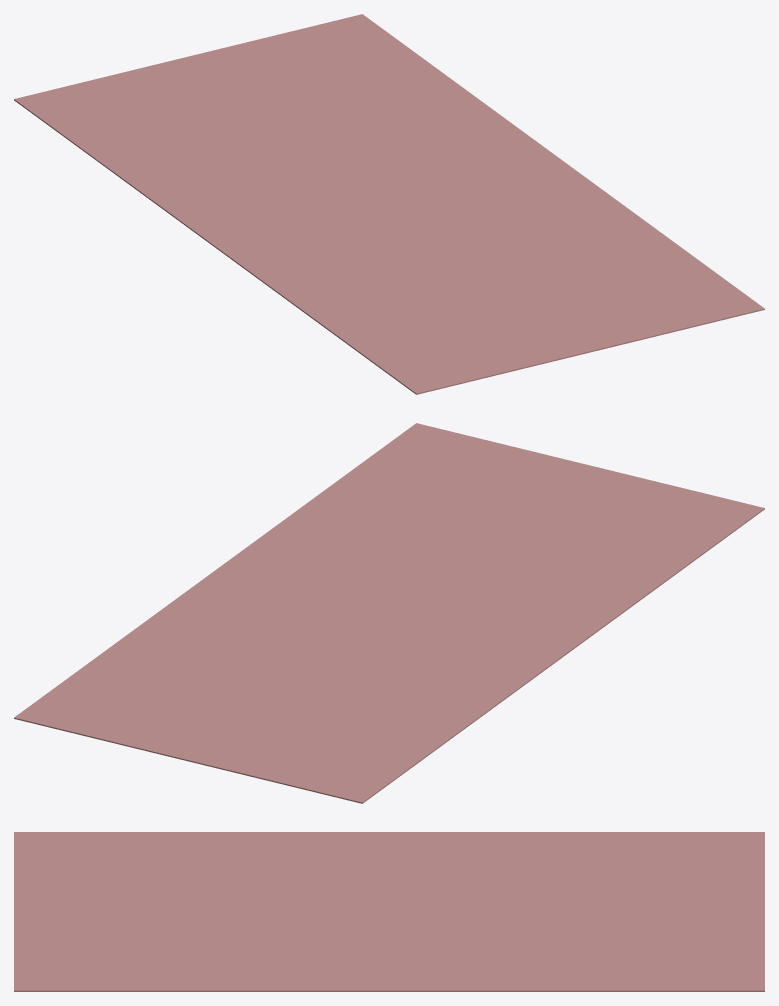
The model's file is testCloth_LP.fbx.
3 views of the same model, one above another, from view 1: azimuth 30°, elevation 25°; view 2: azimuth 150°, elevation 25°; view 3: azimuth 270°, elevation 25° (orthographic). The views are drawn at different scales.
Parts seen in each view (by area): view 1: Curtain_LP; view 2: Curtain_LP; view 3: Curtain_LP.
Boxes of the visible parts, left/top/right/bottom form: Curtain_LP: left=14, top=14, right=764, bottom=394; Curtain_LP: left=14, top=423, right=764, bottom=803; Curtain_LP: left=14, top=832, right=764, bottom=991.
Size of the model in its own units: 30 by 0.1 by 60.
